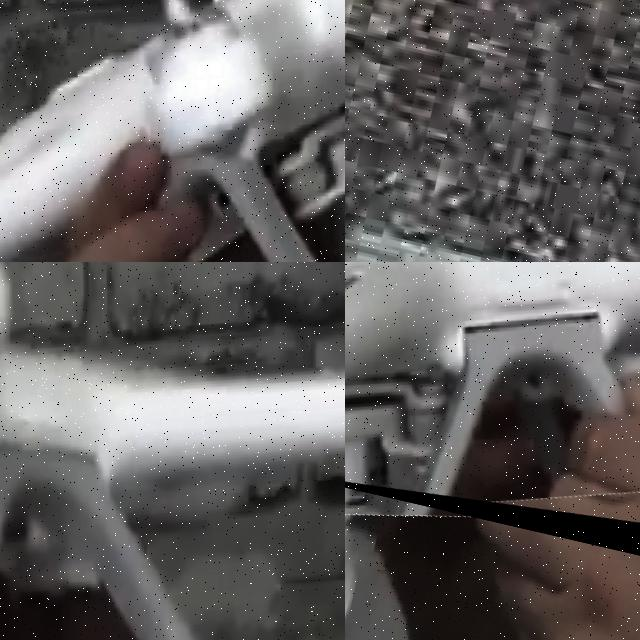drone: (0, 262, 345, 640), (345, 262, 640, 614), (0, 0, 345, 262)
